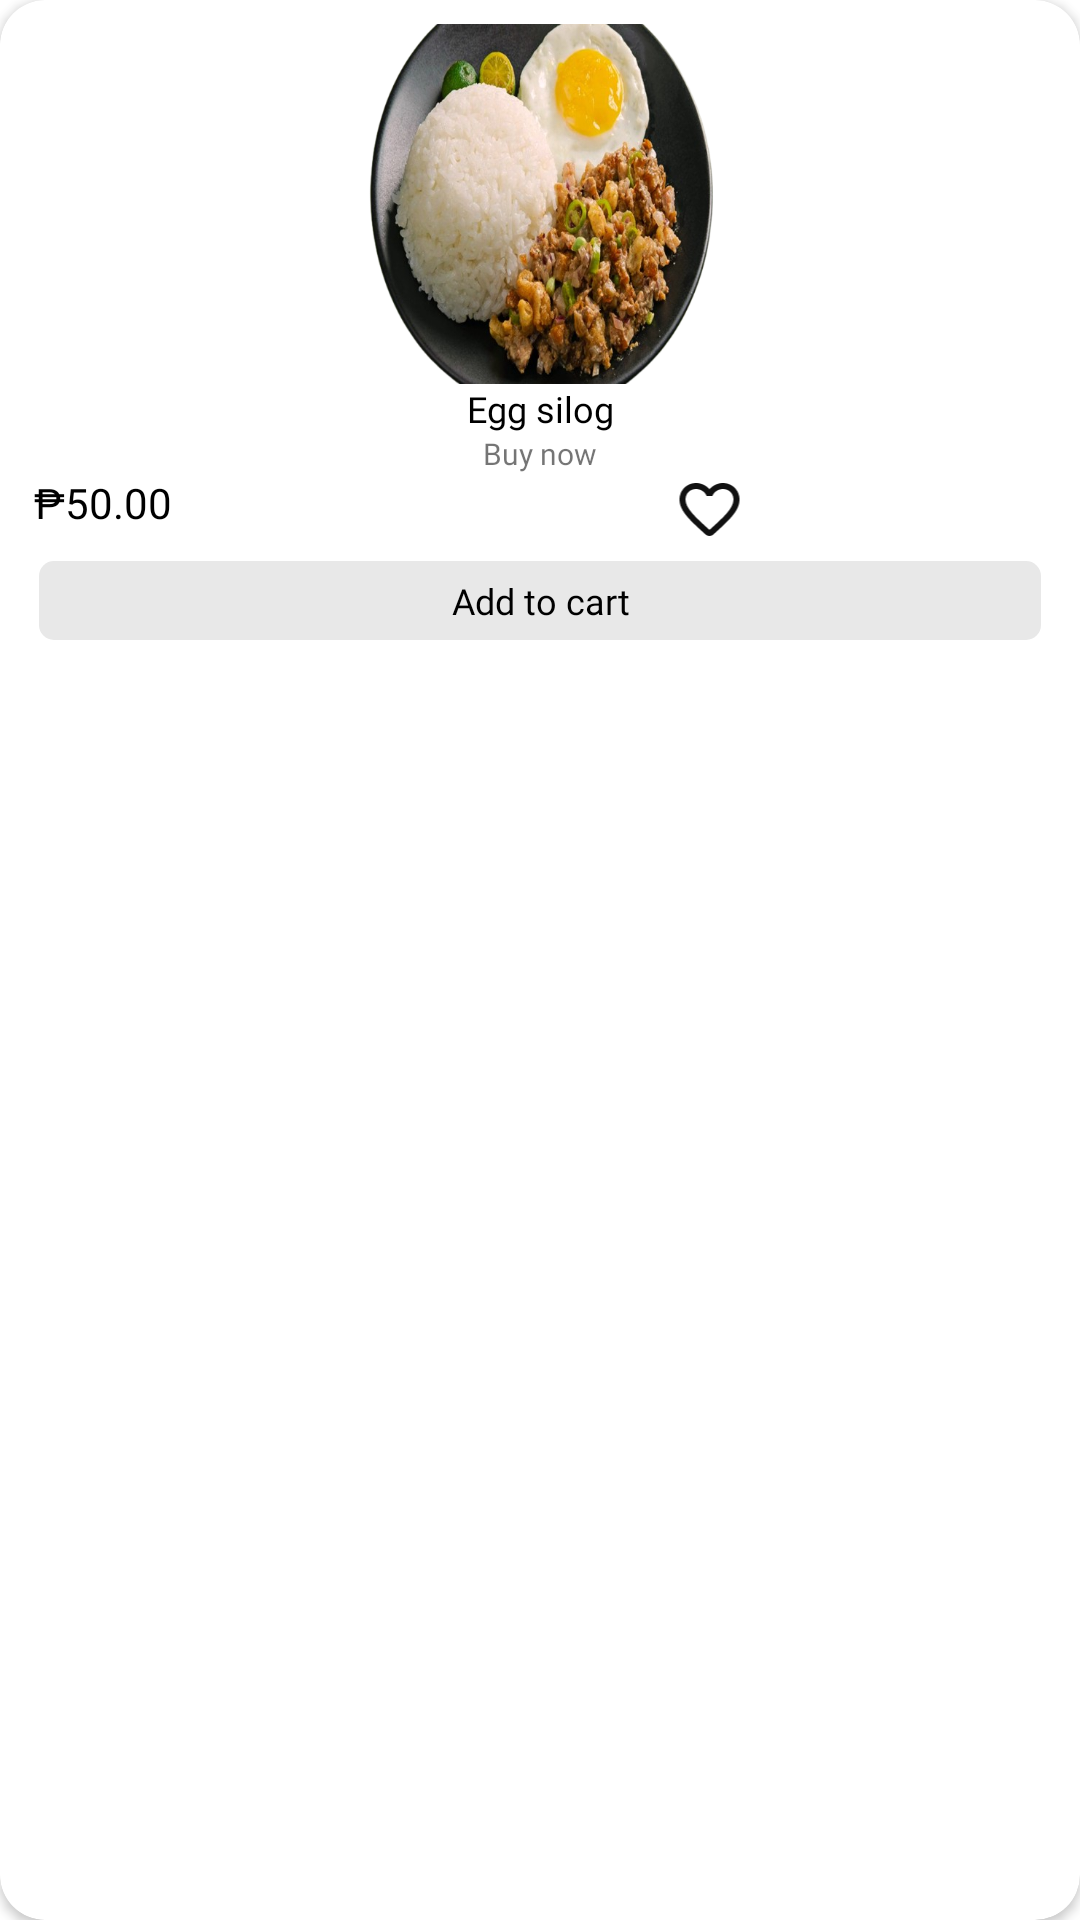

Where icons sit on this 1080w x 1920h app screen, as BBox(x1, y1, x2, y2):
favorite: BBox(679, 483, 740, 536)
